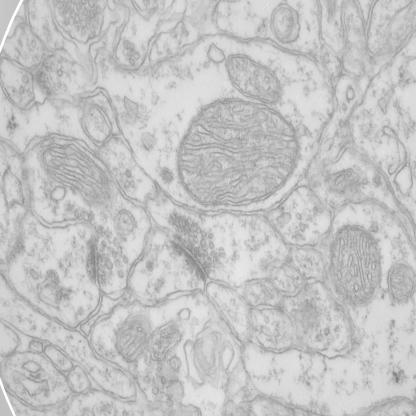mitochondria: (172, 100, 304, 215), (34, 143, 118, 210), (326, 224, 383, 308), (222, 51, 287, 106), (114, 312, 149, 368), (385, 255, 416, 307)
